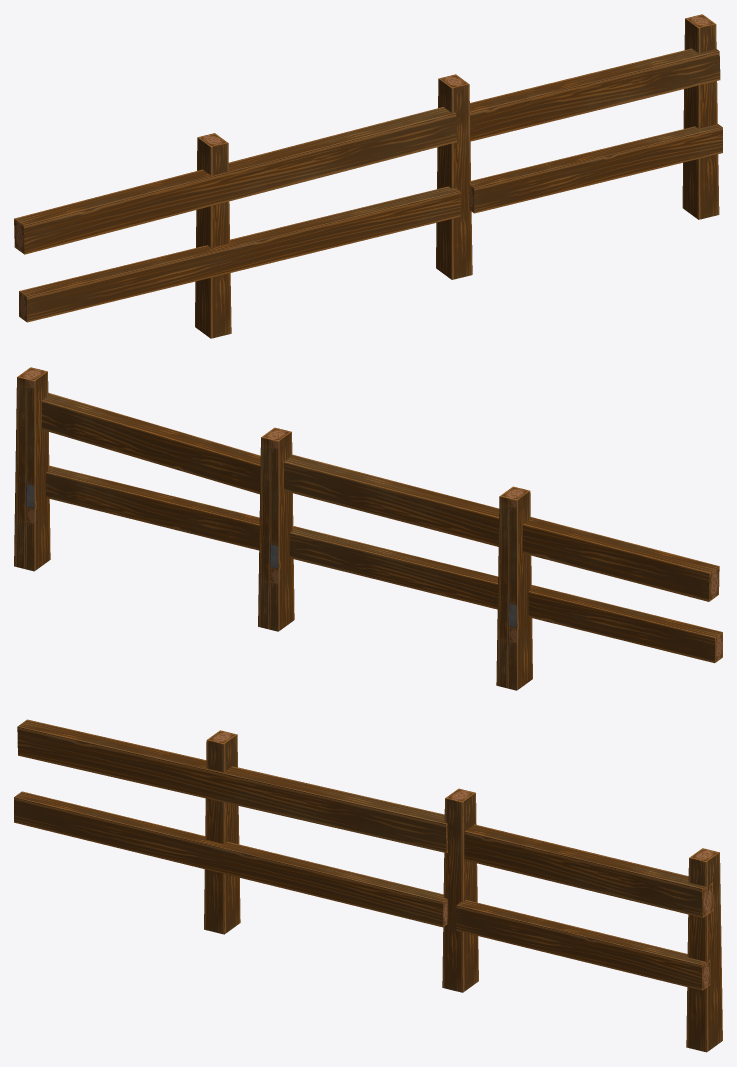
3 views of the same model, one above another, from view 1: azimuth 30°, elevation 25°; view 2: azimuth 150°, elevation 25°; view 3: azimuth 330°, elevation 25° (orthographic).
Visible parts, largest first — view 1: Cube.1821; view 2: Cube.1821; view 3: Cube.1821.
Part boxes in pixels (left/top/right/bottom): Cube.1821: left=14, top=14, right=722, bottom=338; Cube.1821: left=14, top=367, right=722, bottom=690; Cube.1821: left=14, top=719, right=722, bottom=1052.
Size of the model in its own units: 504 by 132 by 26.57.
1 material, 1 textured.
